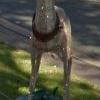Statue: (18, 2, 88, 89)
